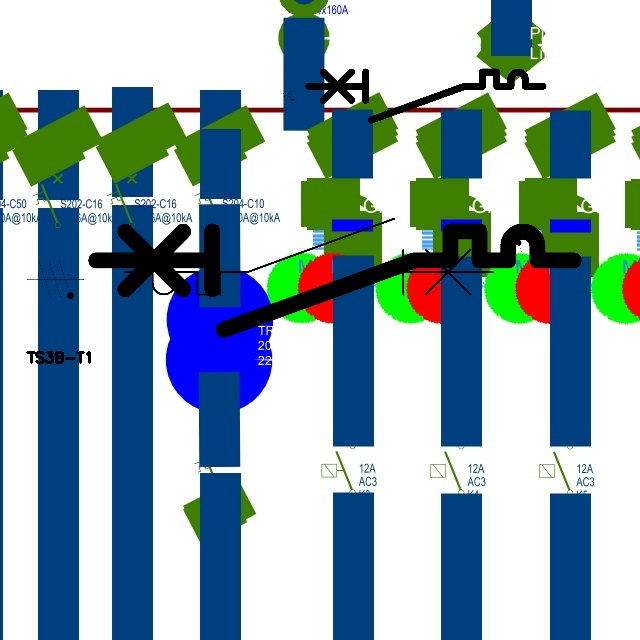interruptor_termomagnetico: (83, 219, 585, 342), (115, 209, 502, 304), (302, 66, 548, 126)
